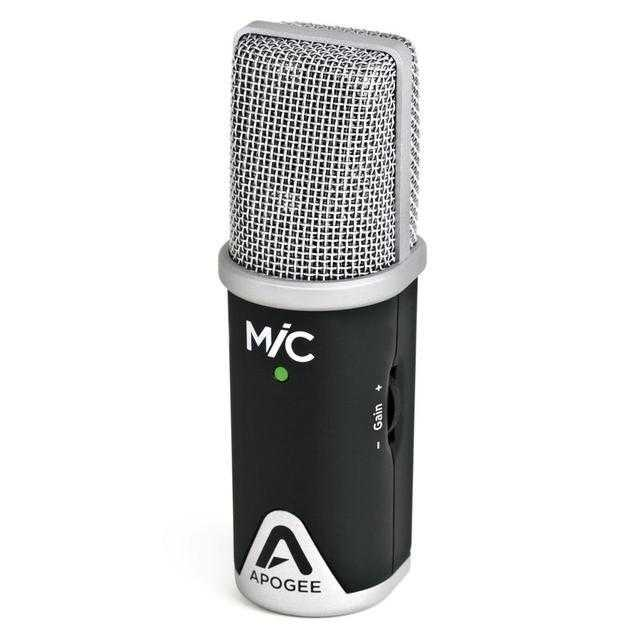microphone: (194, 24, 443, 616)
